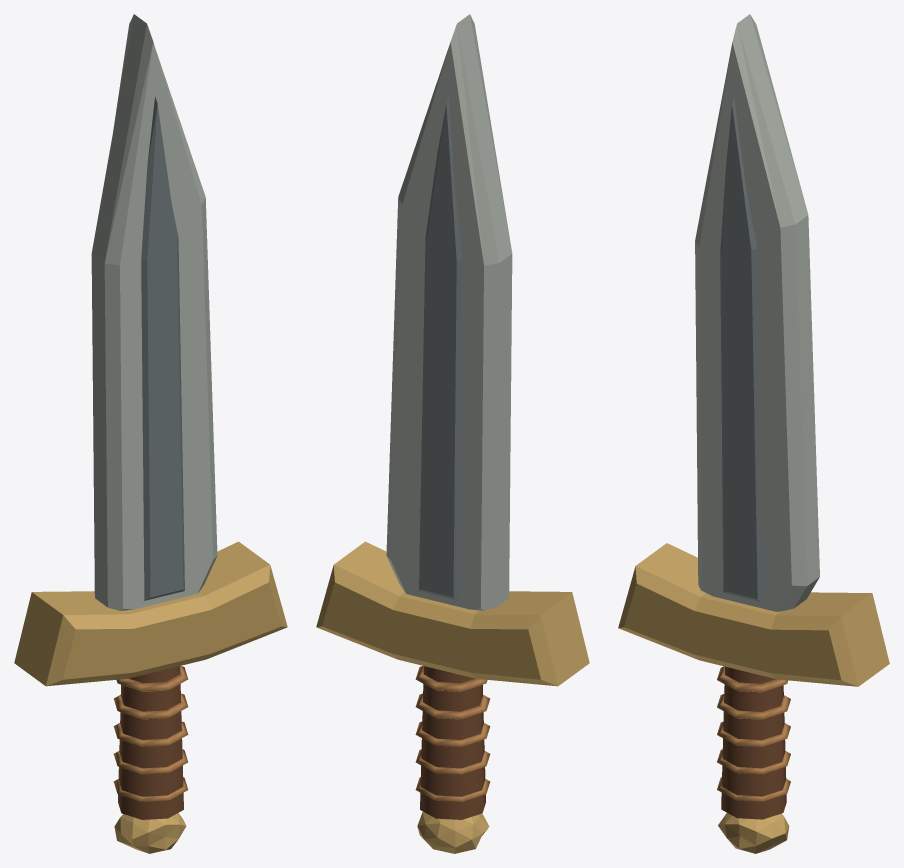
The model's file is traveler_blade.glb.
3 renders of one model, left to right at view 1: azimuth 30°, elevation 25°; view 2: azimuth 150°, elevation 25°; view 3: azimuth 330°, elevation 25°, orthographic.
Visible parts, largest first — view 1: edge_92, gold_94, iron_93, leather_95, gold_101, leatherLight_99, leatherLight_100, leatherLight_98, leatherLight_97; view 2: edge_92, gold_94, iron_93, leather_95, gold_101, leatherLight_99, leatherLight_100, leatherLight_98, leatherLight_97; view 3: edge_92, gold_94, iron_93, leather_95, gold_101, leatherLight_99, leatherLight_100, leatherLight_98, leatherLight_97.
Boxes of the visible parts, box(x1,y1,x2,y2) form: edge_92: box(91, 14, 217, 610); gold_94: box(14, 541, 287, 686); iron_93: box(141, 96, 184, 600); leather_95: box(118, 666, 183, 819); gold_101: box(114, 813, 186, 853); leatherLight_99: box(114, 693, 188, 719); leatherLight_100: box(116, 666, 188, 691); leatherLight_98: box(113, 721, 188, 746); leatherLight_97: box(113, 749, 187, 774); edge_92: box(386, 14, 512, 610); gold_94: box(316, 541, 589, 686); iron_93: box(419, 96, 462, 600); leather_95: box(420, 666, 485, 819); gold_101: box(417, 811, 489, 853); leatherLight_99: box(415, 693, 489, 719); leatherLight_100: box(415, 666, 487, 691); leatherLight_98: box(415, 721, 490, 746); leatherLight_97: box(415, 749, 490, 774); edge_92: box(695, 14, 819, 611); gold_94: box(618, 543, 889, 686); iron_93: box(720, 97, 763, 602); leather_95: box(721, 666, 786, 819); gold_101: box(718, 813, 789, 853); leatherLight_99: box(717, 694, 790, 719); leatherLight_100: box(717, 666, 788, 692); leatherLight_98: box(717, 721, 790, 746); leatherLight_97: box(717, 749, 790, 774).
Size of the model in its own units: 0.3755 by 1.24 by 0.115.
